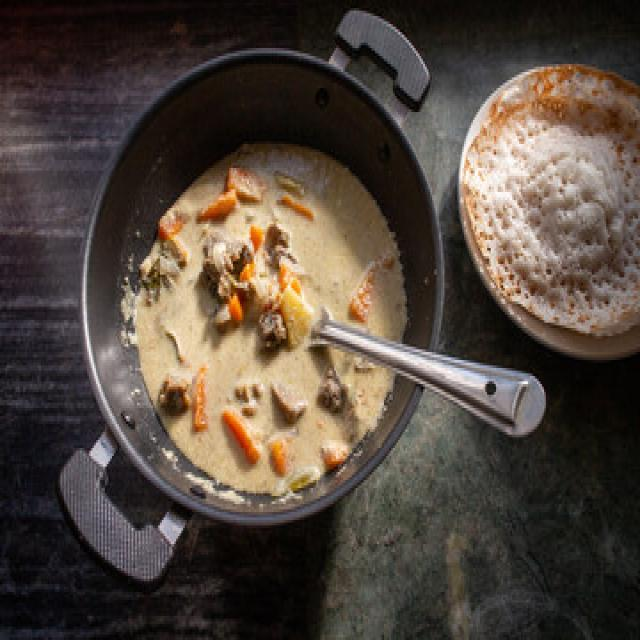AAPAM: (460, 64, 638, 355)
CURRY: (135, 147, 405, 496)
